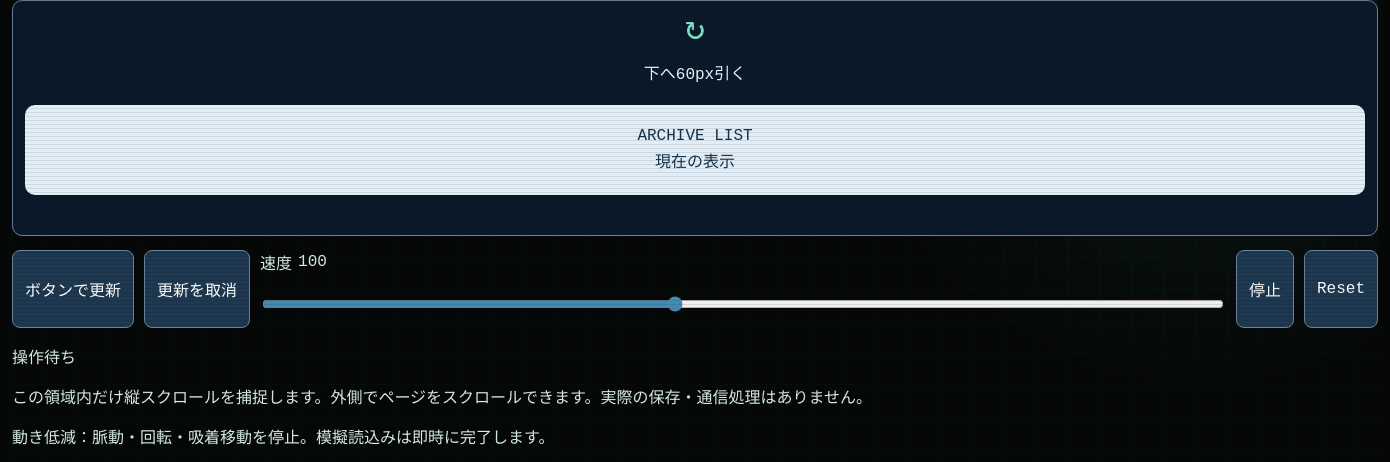
Test case: completed reduced-motion refresh never resurrects when motion preference changes
The image size is (1390, 462).
Click the button "ボタンで更新": {"x": 73, "y": 289} [12,250,134,328]
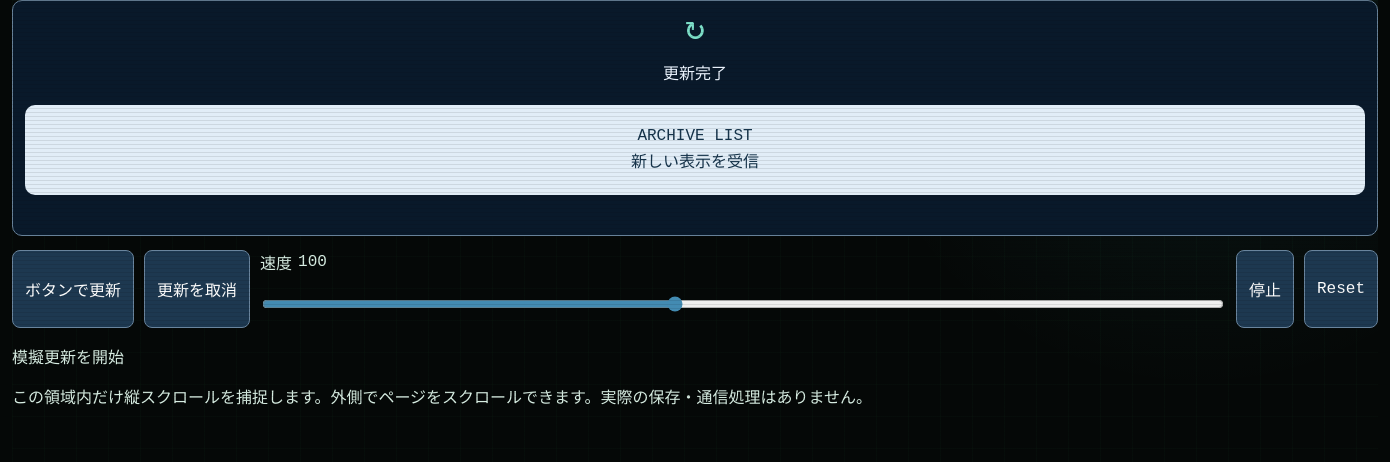
Now the text "更新完了" is shown, box [663,66,727,84]
